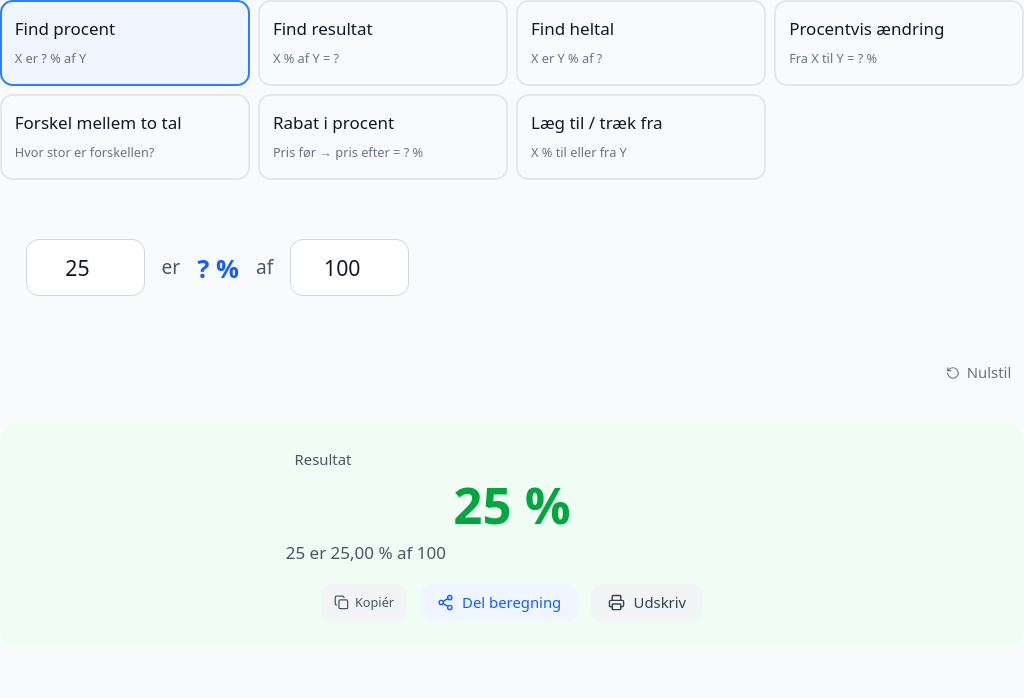
Test case: ProcentBeregner › træk fra 20 % af 150 giver 120 kr. og et fald
The width and height of the screenshot is (1024, 698).
Click the radio button labelled "Læg til / træk fra X % til eller fra Y" at (641, 137), box [516,94,766,180]
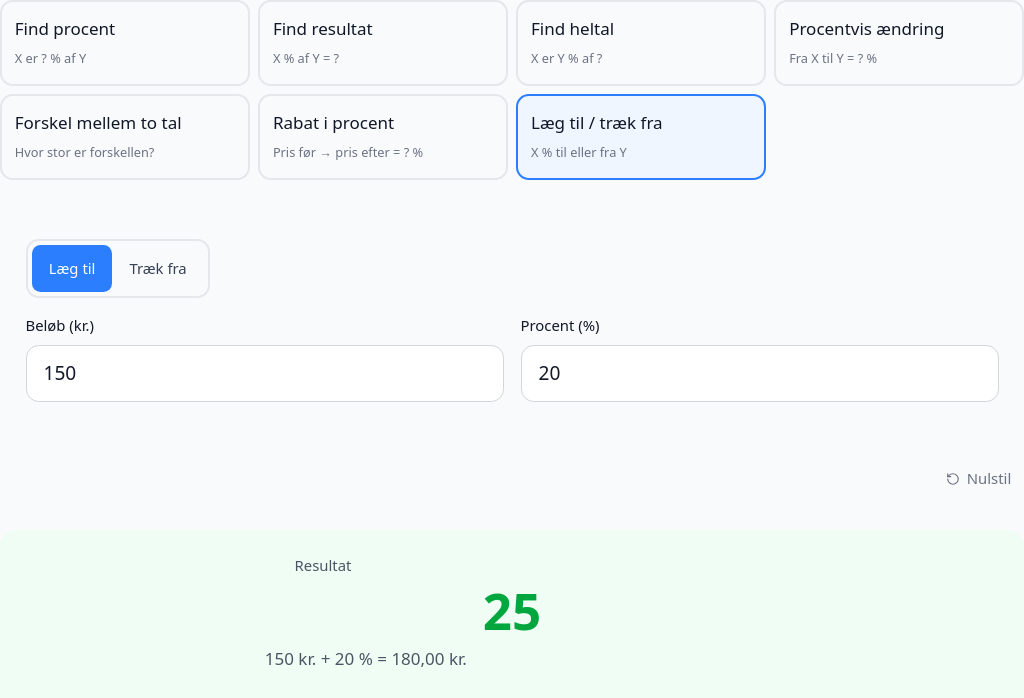
Click the button "Træk fra" at (158, 269), box [112,245,204,292]
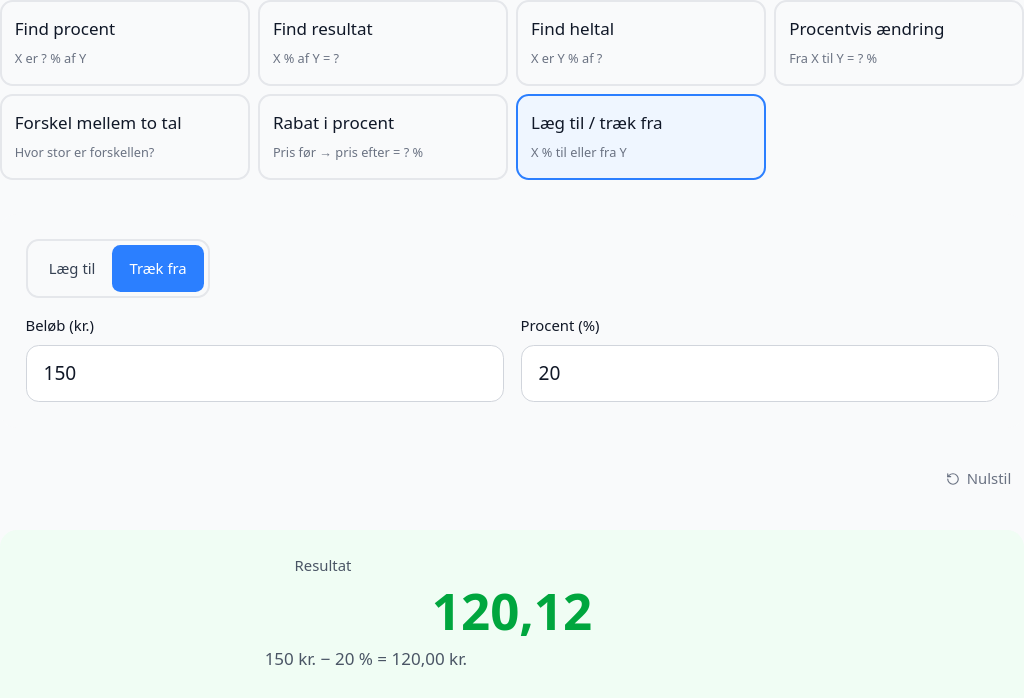
Now the text "150 kr. − 20 % = 120,00 kr." is shown, box [265,647,467,670]
